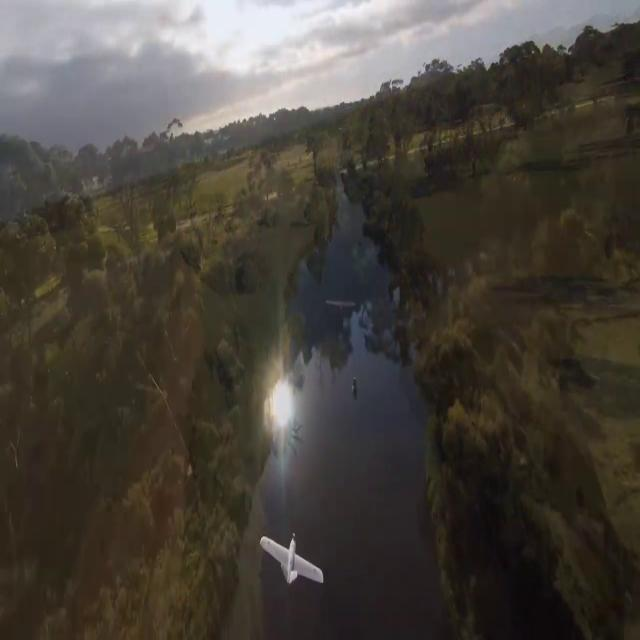iha: (289, 524, 293, 586)
